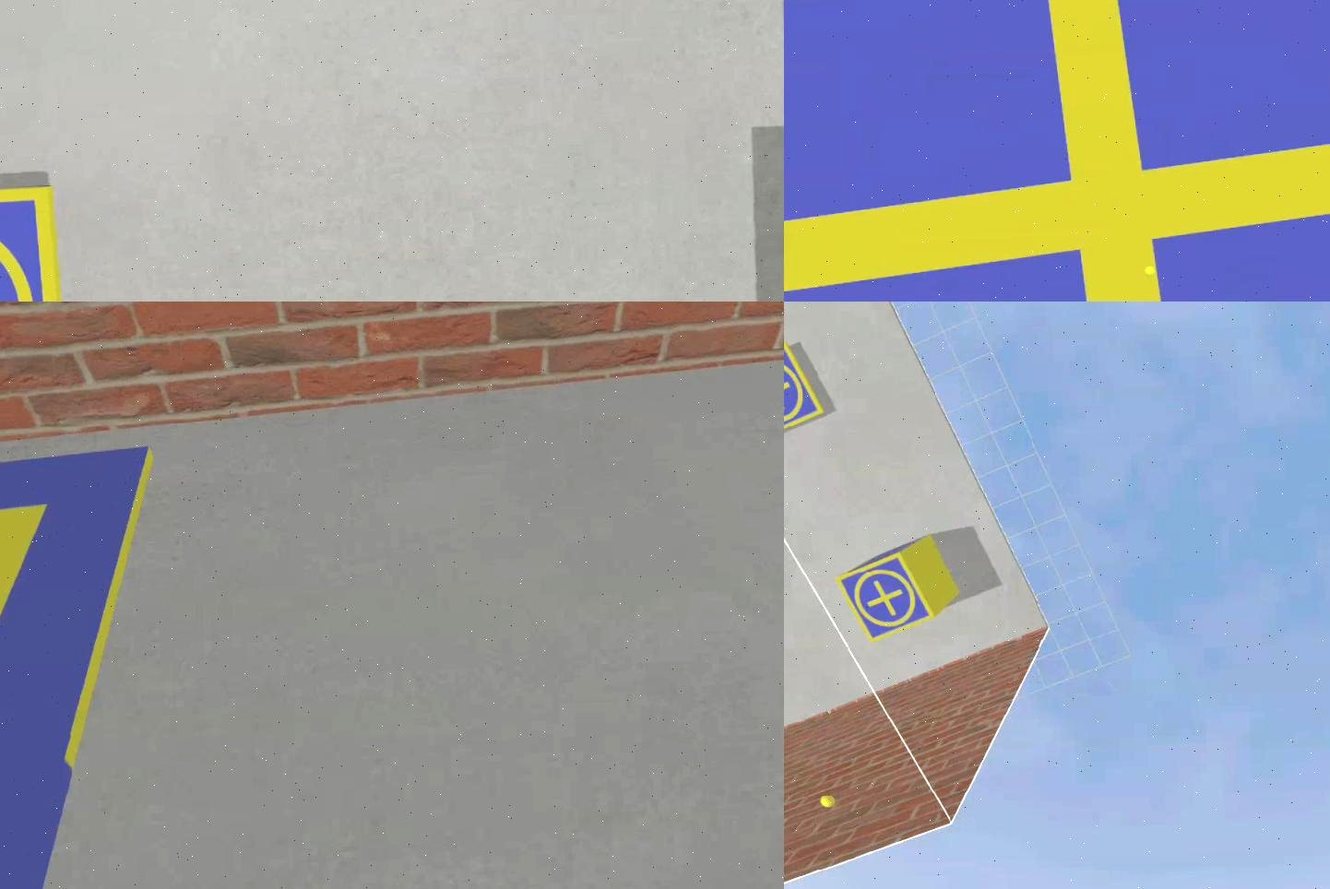large_base: (1, 445, 169, 889)
small_base: (784, 1, 1330, 302), (838, 552, 936, 643), (784, 341, 829, 439)
